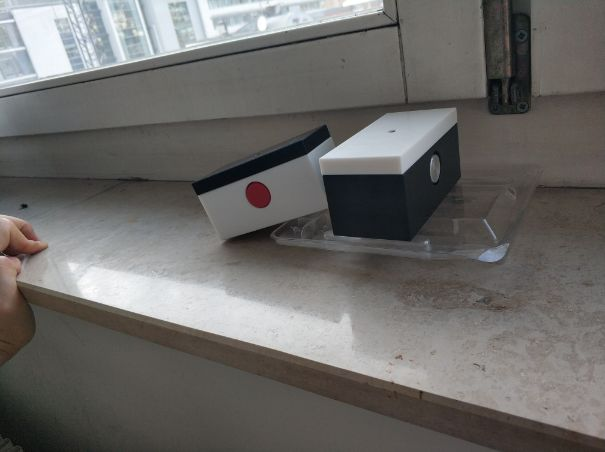black+white+red: (188, 122, 342, 244)
white+black+silver: (318, 106, 466, 243)
